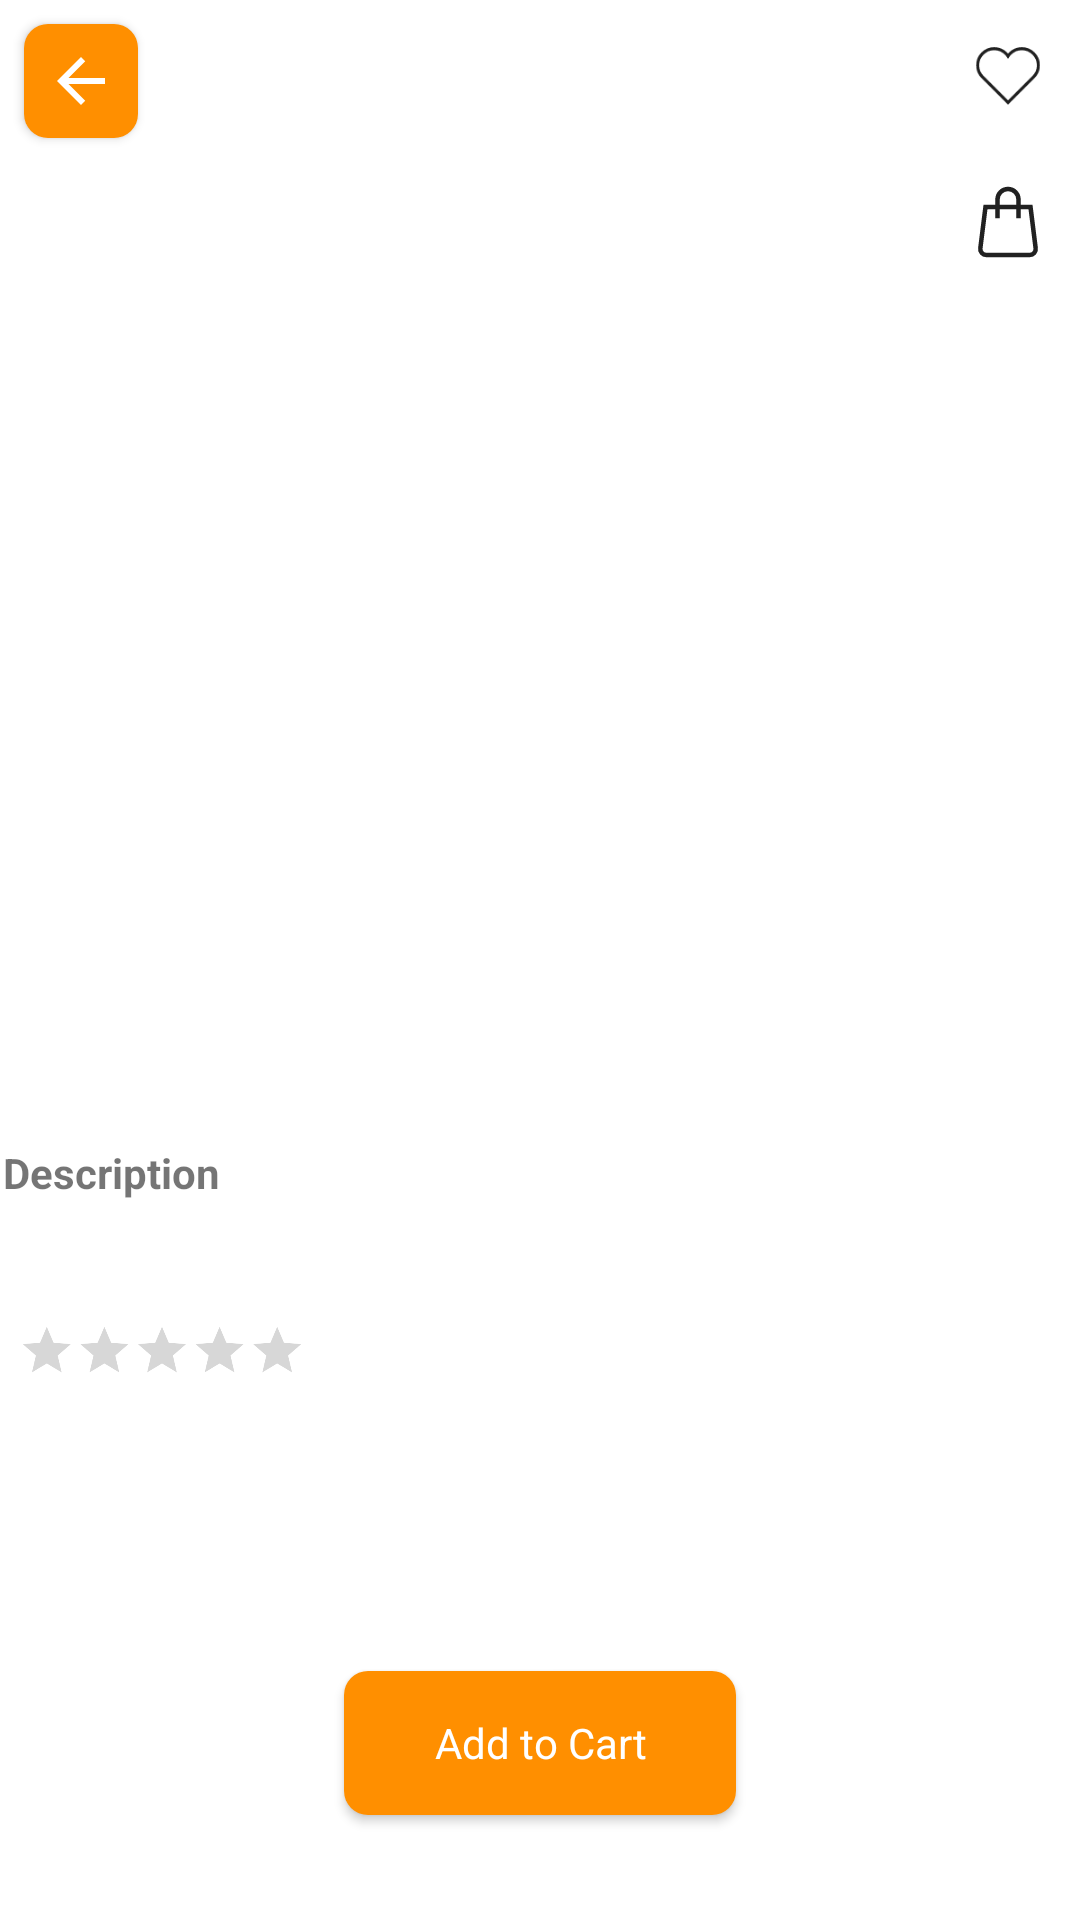

Where to tap for icons on this 1080px×1920px app screen, as [x,y]:
back: [81,81]
cart: [1008,222]
